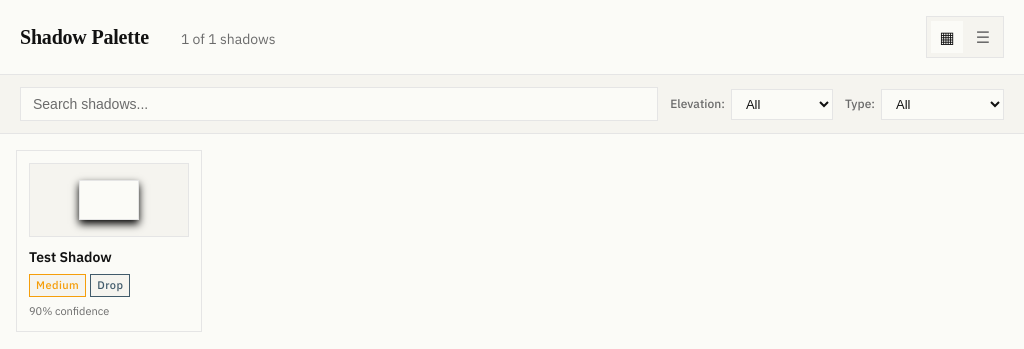
ShadowPalette › View Mode Toggle › should switch to list view when clicked
The width and height of the screenshot is (1024, 349).
Click the button "☰". click: (983, 37)
box: [967,21,999,53]
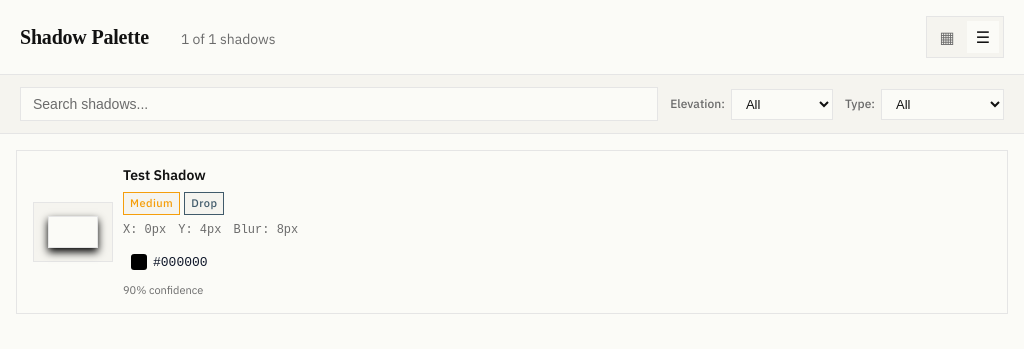
Result: the element with class "list" is shown at [0,134,1023,330]
